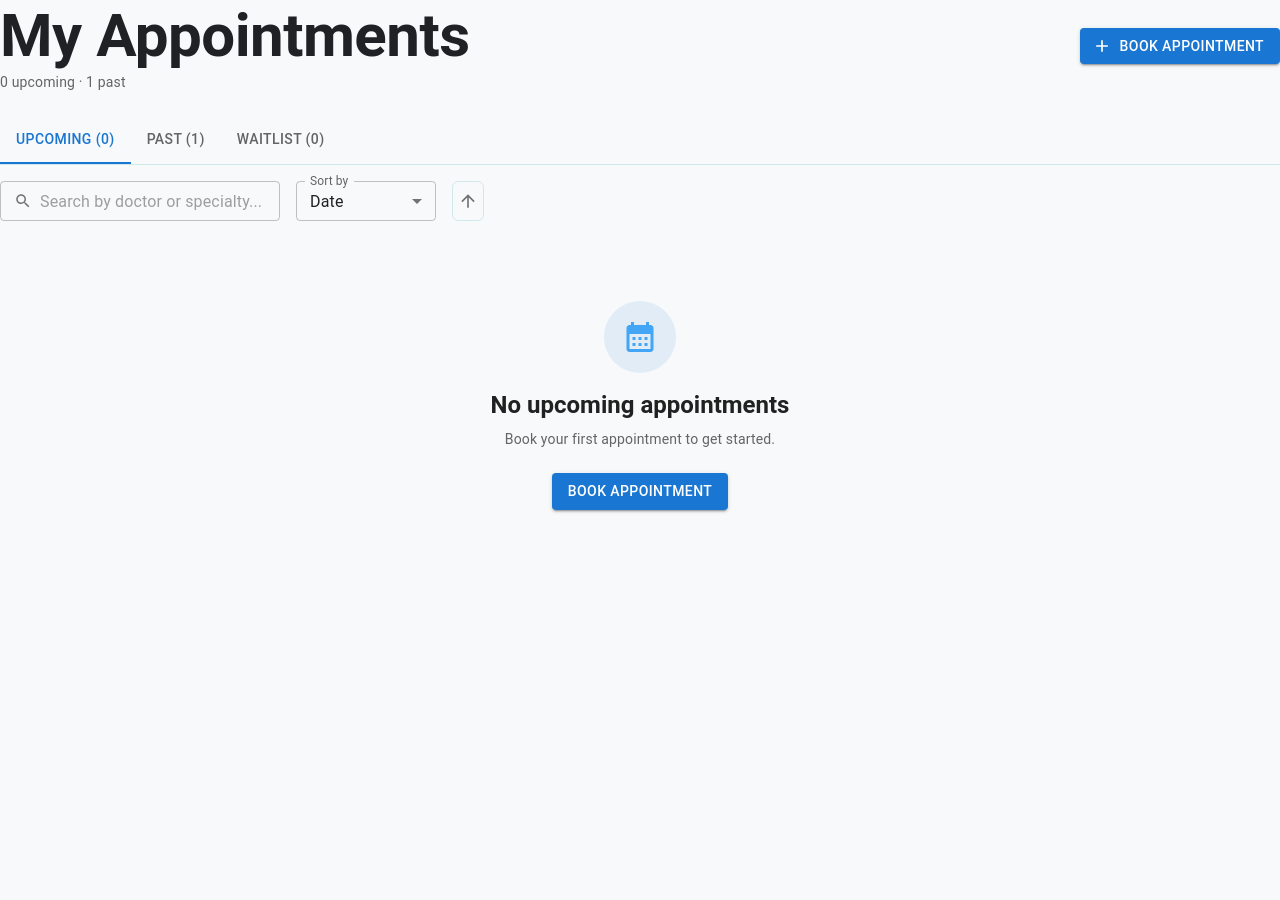
Test: PatientAppointments — review submission (P1-06) › keeps Submit Review disabled until a star rating and a comment are both given (UI-11)
Click the tab "Past (1)" at (176, 140), box [131,116,221,164]
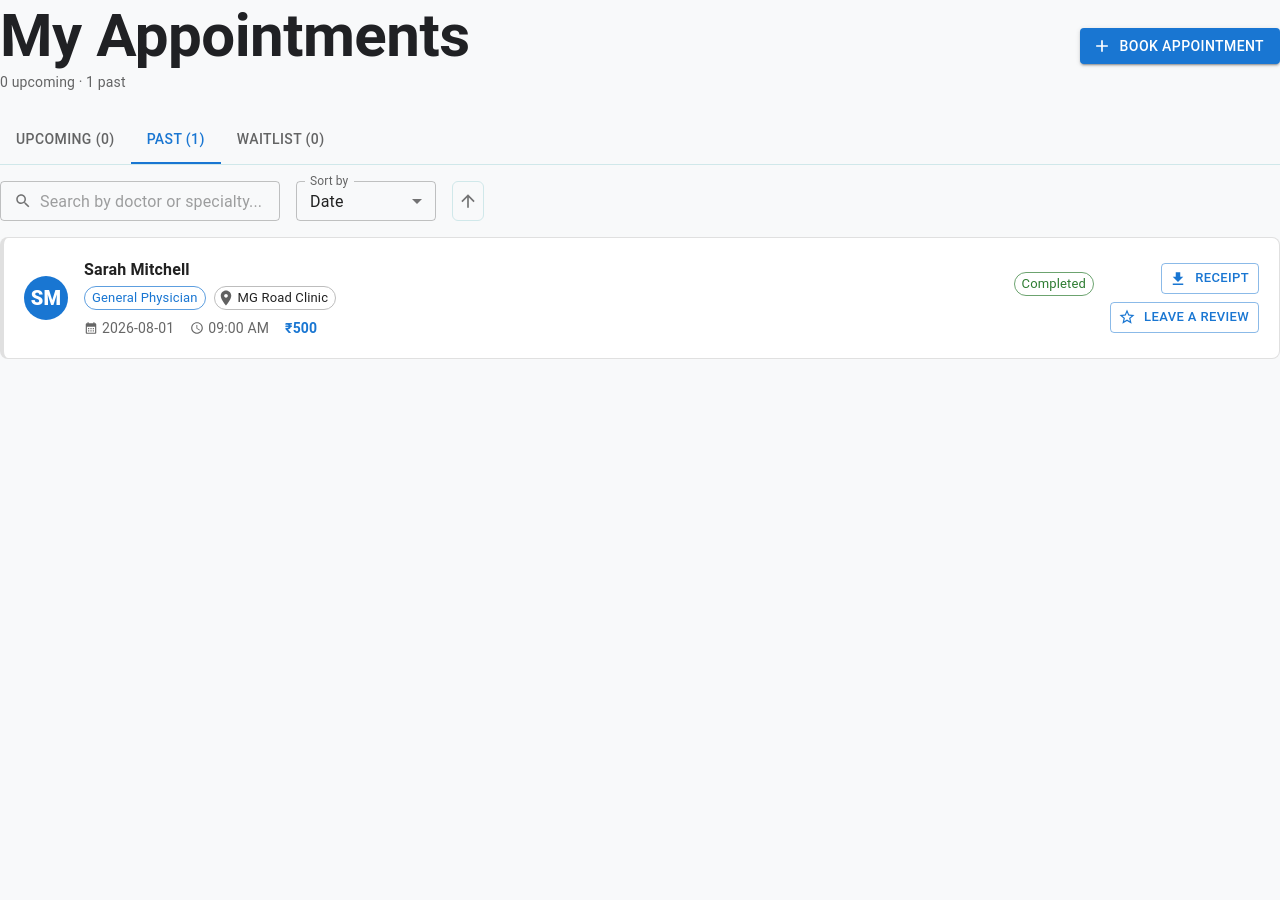
Click the button "Leave a Review" at (1184, 317), box [1110,302,1259,333]
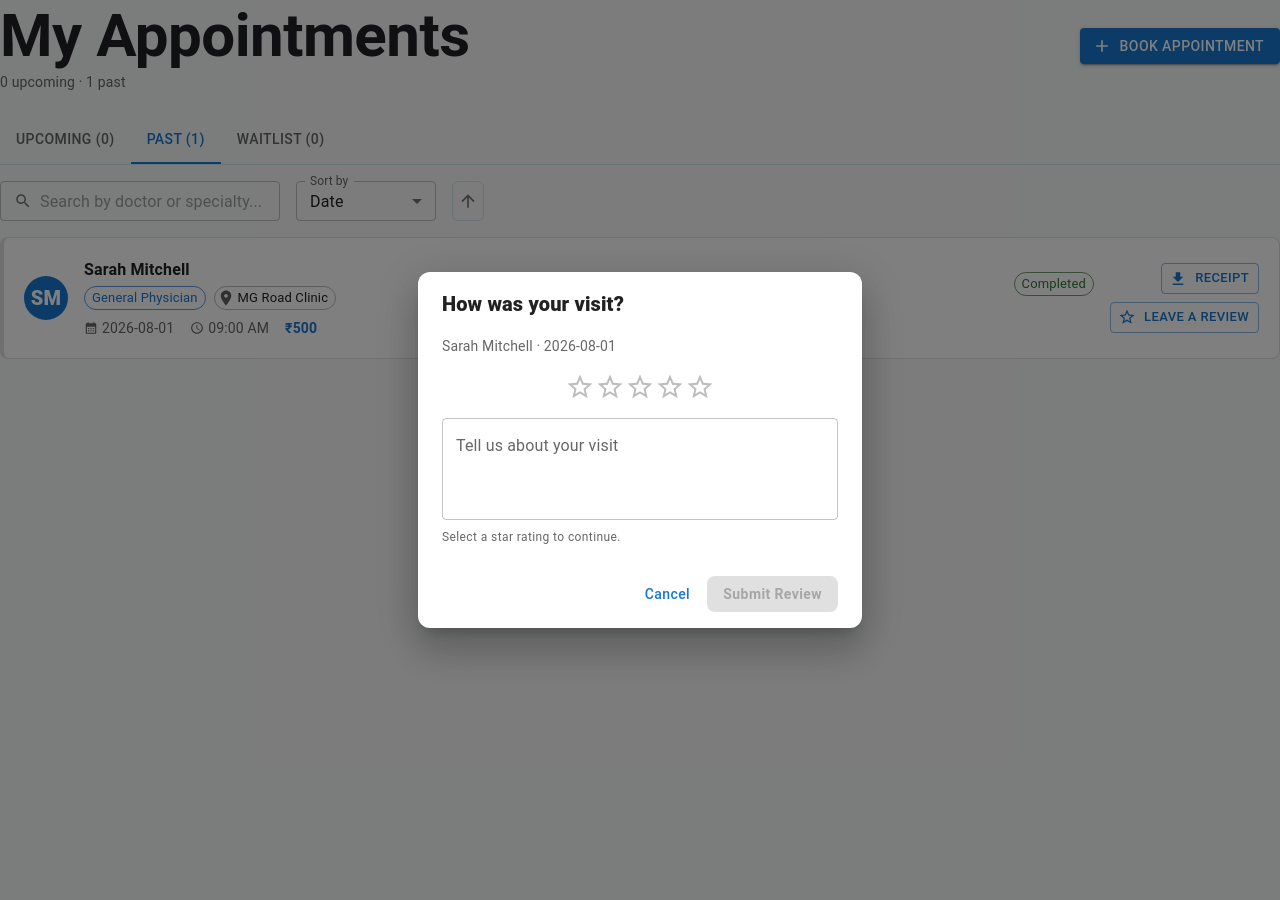
Expected: the heading "How was your visit?" is shown, [442,292,624,316]
Expected: the button "Submit Review" is disabled, [707,576,838,612]
Expected: the text "Select a star rating to continue." is shown, [442,530,621,544]
Click the radio button named "5 Stars" at (700, 387), box [685,372,715,402]
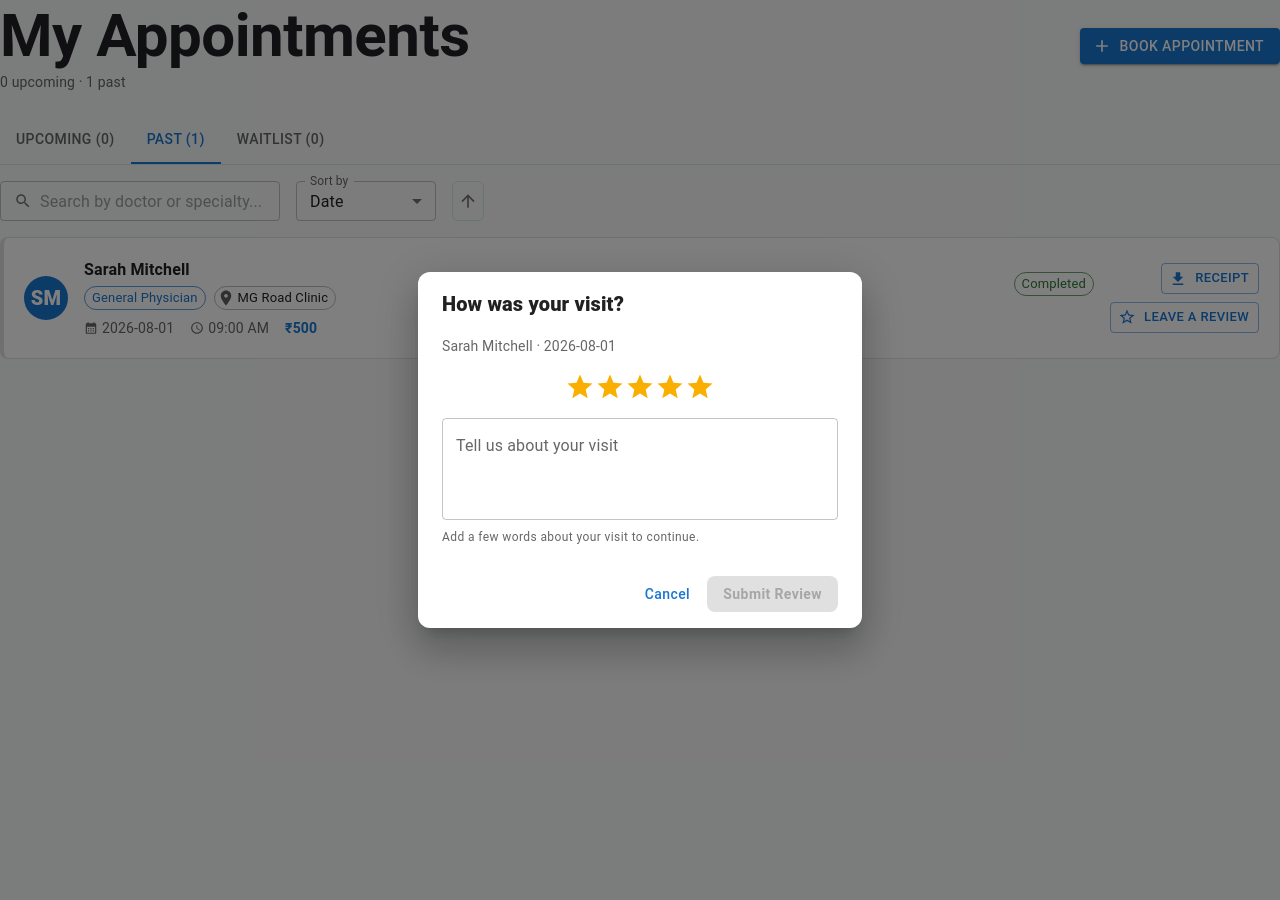
Expected: the button "Submit Review" is disabled, [707,576,838,612]
Expected: the text "Add a few words about your visit to continue." is shown, [442,530,700,544]
Type "Excellent care" into the text box labelled "Tell us about your visit" at (640, 469), box [456,434,824,503]
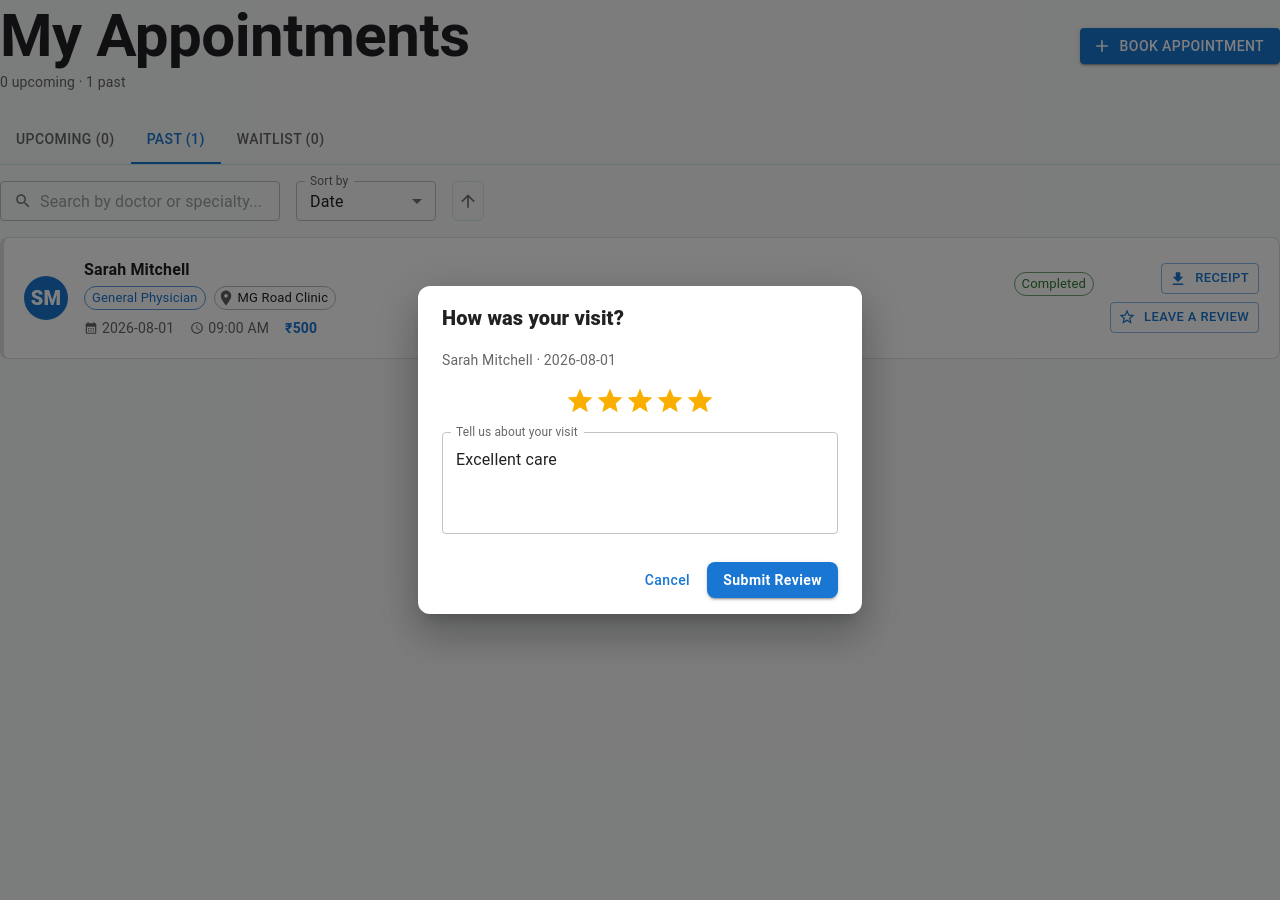
Expected: the button "Submit Review" is enabled, [707,562,838,598]
